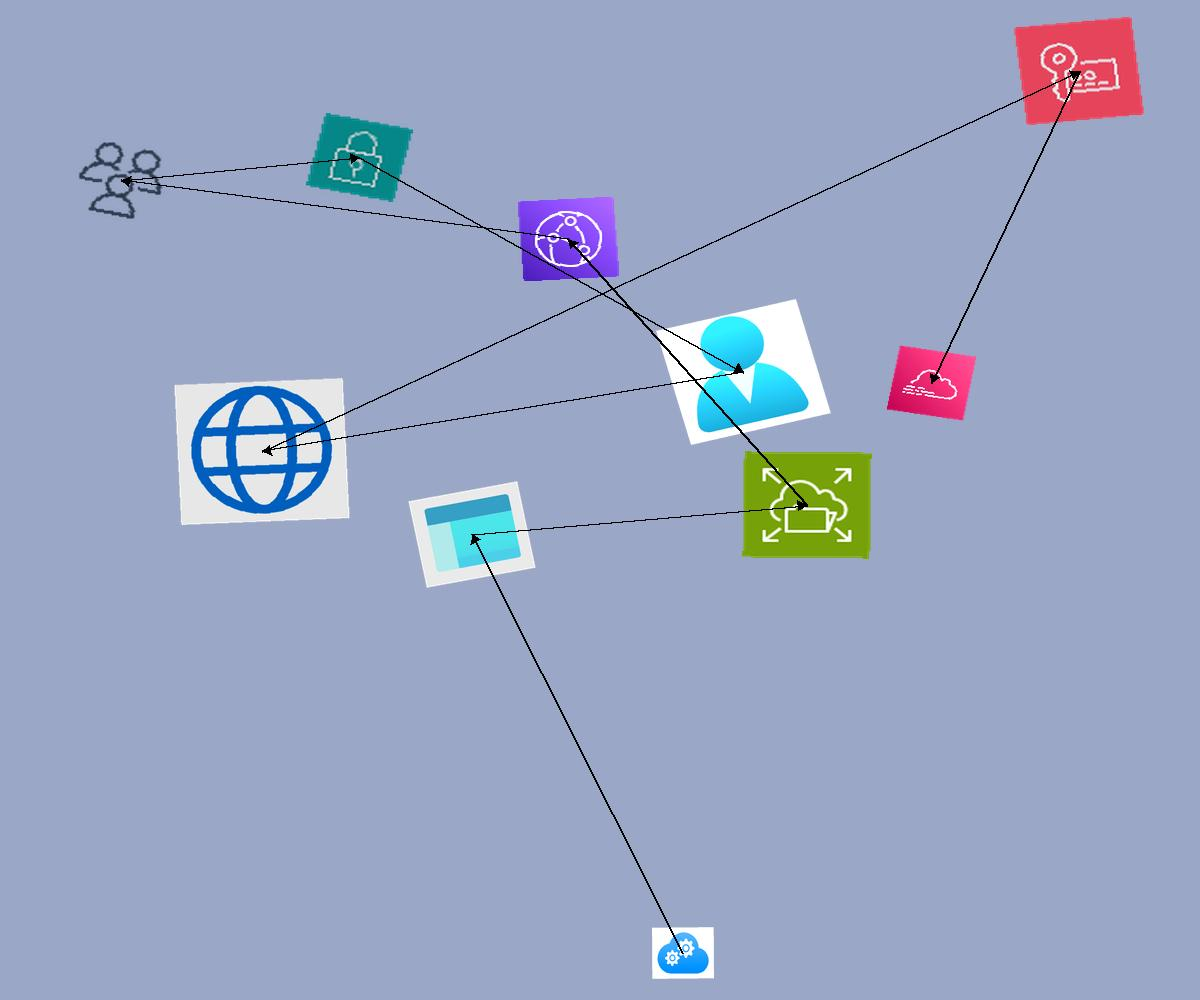AWS-CloudFront: (517, 196, 620, 282)
AWS-CloudTrail: (886, 345, 977, 421)
AWS-EFS: (742, 451, 872, 559)
AWS-Key-Management-Service: (1013, 16, 1145, 126)
AWS-Private-subnet: (306, 113, 413, 202)
AWS-Res_Users: (64, 133, 178, 228)
Azure_cloud_services: (652, 927, 714, 979)
Azure_http: (174, 378, 350, 525)
Azure_management-portal: (408, 481, 536, 588)
Azure_users: (656, 299, 831, 445)
